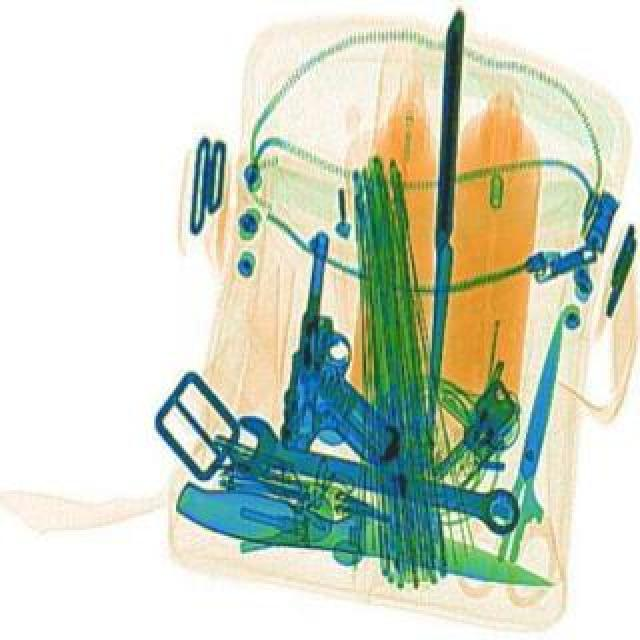gun: (280, 228, 428, 464)
knife: (174, 468, 562, 606), (486, 308, 590, 564), (422, 10, 474, 452)
scissors: (222, 406, 530, 538)
